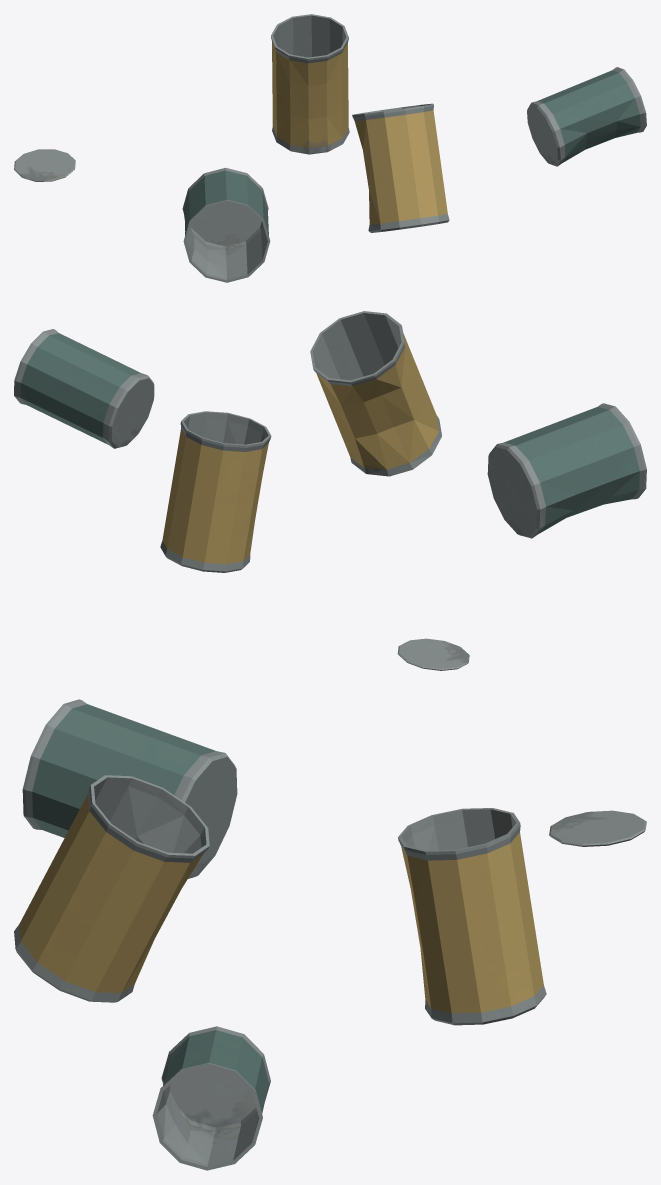
Rendered from street_litter_tin.glb.
3 views of the same model, one above another, from view 1: azimuth 30°, elevation 25°; view 2: azimuth 150°, elevation 25°; view 3: azimuth 270°, elevation 25° (orthographic). The views are drawn at different scales.
Parts seen in each view (by area): view 1: StreetLitterTin; view 2: StreetLitterTin; view 3: StreetLitterTin.
Boxes of the visible parts, box(x1,y1,x2,y2) form: StreetLitterTin: box(14, 14, 646, 282); StreetLitterTin: box(14, 311, 646, 670); StreetLitterTin: box(14, 699, 646, 1170).
Size of the model in its own units: 0.541 by 0.1354 by 0.3783.
1 material, 1 textured.
